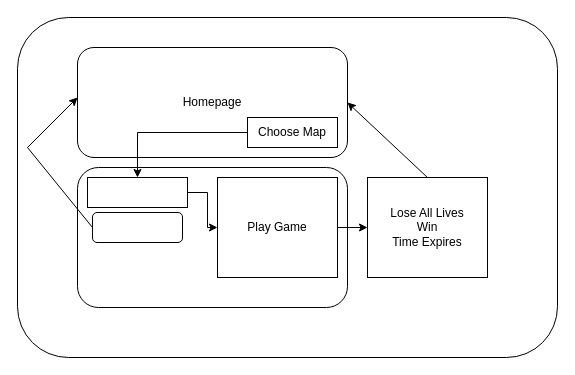
This 575x375 diagram has some shape labels left out. Each missing label, with the box of its shape:
Click Start: (86, 176, 188, 208)
Reset Button: (92, 212, 182, 242)
